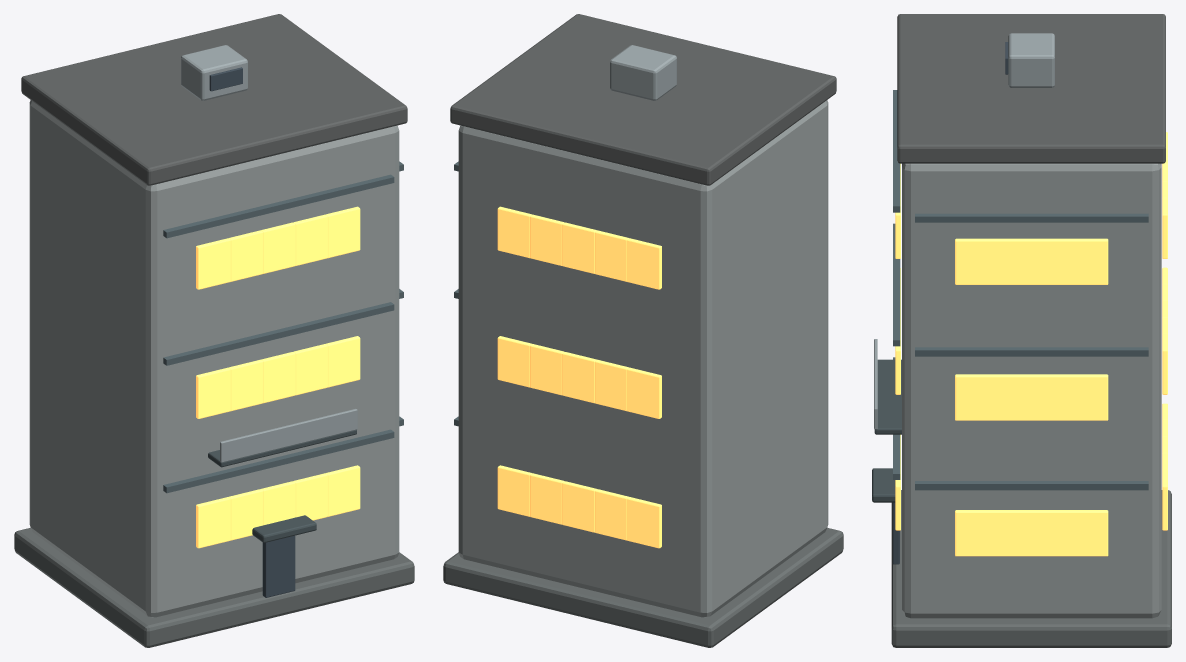
File: residential_walkup_3.glb
3 renders of one model, left to right at view 1: azimuth 30°, elevation 25°; view 2: azimuth 150°, elevation 25°; view 3: azimuth 270°, elevation 25°, orthographic. The views are drawn at different scales.
Visible parts, largest first — view 1: main_massing, roof_slab, foundation, balcony_rail, hvac_unit, facade_band_front, facade_band_front.001, facade_band_front.002, entry_door, front_window.010, front_window, front_window.005 (+15 smaller); view 2: main_massing, roof_slab, foundation, hvac_unit, rear_window.010, rear_window, rear_window.005, rear_window.004, rear_window.007, rear_window.003, rear_window.014, rear_window.006 (+7 smaller); view 3: main_massing, roof_slab, foundation, hvac_unit, facade_band_side, facade_band_side.001, facade_band_side.002, side_window, side_window.004, side_window.008, side_window.011, side_window.003 (+11 smaller).
Boxes of the visible parts, bbox=[...] form: main_massing: bbox=[29, 100, 399, 617]; roof_slab: bbox=[21, 14, 407, 185]; foundation: bbox=[14, 528, 414, 647]; balcony_rail: bbox=[220, 409, 357, 462]; hvac_unit: bbox=[181, 45, 247, 100]; facade_band_front: bbox=[163, 429, 394, 493]; facade_band_front.001: bbox=[163, 302, 394, 365]; facade_band_front.002: bbox=[163, 174, 394, 238]; entry_door: bbox=[262, 535, 295, 597]; front_window.010: bbox=[196, 238, 230, 289]; front_window: bbox=[196, 497, 230, 548]; front_window.005: bbox=[196, 367, 230, 418]; main_massing: bbox=[458, 100, 828, 617]; roof_slab: bbox=[450, 14, 836, 185]; foundation: bbox=[443, 528, 843, 647]; hvac_unit: bbox=[610, 45, 676, 100]; rear_window.010: bbox=[627, 238, 661, 289]; rear_window: bbox=[627, 497, 661, 548]; rear_window.005: bbox=[627, 367, 661, 418]; rear_window.004: bbox=[497, 465, 531, 516]; rear_window.007: bbox=[562, 352, 596, 403]; rear_window.003: bbox=[530, 473, 564, 524]; rear_window.014: bbox=[497, 206, 531, 258]; rear_window.006: bbox=[595, 359, 629, 411]; main_massing: bbox=[902, 163, 1161, 618]; roof_slab: bbox=[897, 14, 1165, 163]; foundation: bbox=[891, 490, 1171, 647]; hvac_unit: bbox=[1008, 33, 1054, 87]; facade_band_side: bbox=[915, 481, 1148, 490]; facade_band_side.001: bbox=[915, 347, 1148, 356]; facade_band_side.002: bbox=[915, 213, 1148, 222]; side_window: bbox=[1069, 510, 1108, 556]; side_window.004: bbox=[1069, 374, 1108, 420]; side_window.008: bbox=[1069, 238, 1108, 284]; side_window.011: bbox=[955, 238, 994, 284]; side_window.003: bbox=[955, 510, 994, 556].
Size of the model in its own units: 1.26 by 2.28 by 1.16.
